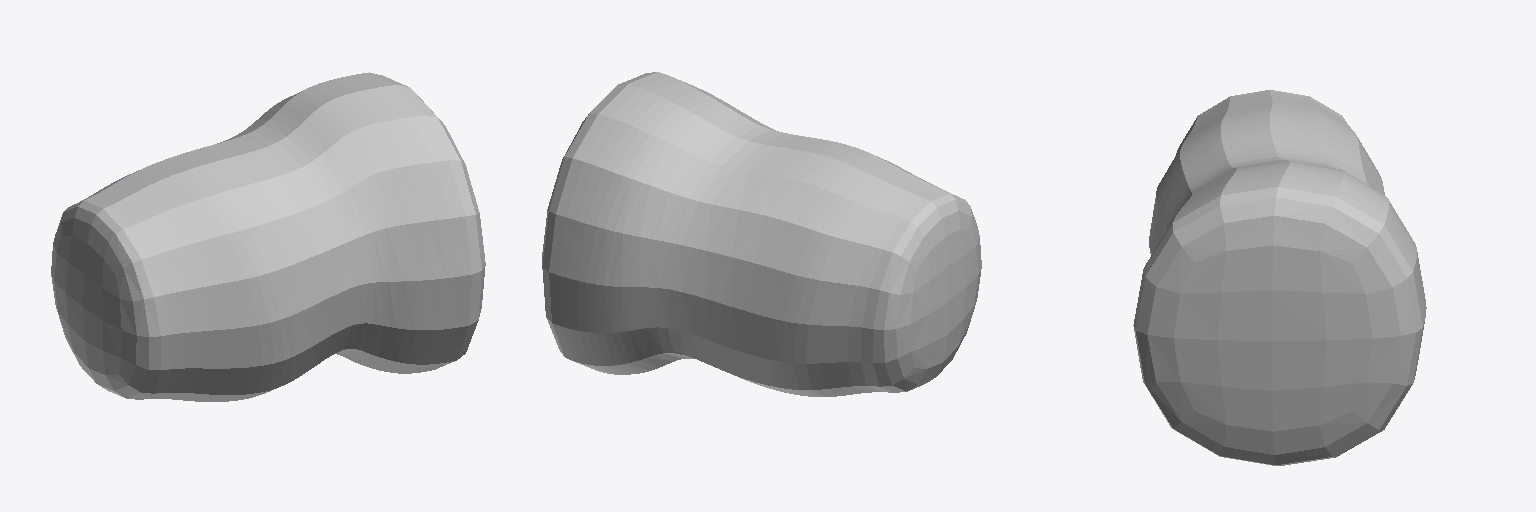
Rendered from m_ruarm.obj.
The picture shows the model from 3 angles: view 1: azimuth 30°, elevation 25°; view 2: azimuth 150°, elevation 25°; view 3: azimuth 270°, elevation 25°; orthographic projection.
Visible parts, largest first — view 1: pCube5; view 2: pCube5; view 3: pCube5.
Boxes of the visible parts, x1,y1,x2,y2 form: pCube5: [51, 72, 485, 401]; pCube5: [542, 72, 981, 396]; pCube5: [1133, 90, 1426, 465].
Size of the model in its own units: 0.8662 by 0.6451 by 0.6217.